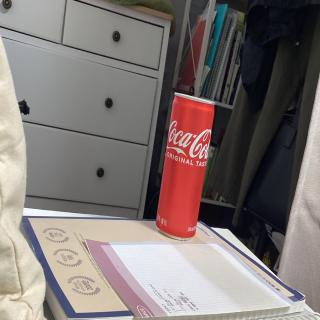cocacola: (148, 84, 221, 247)
